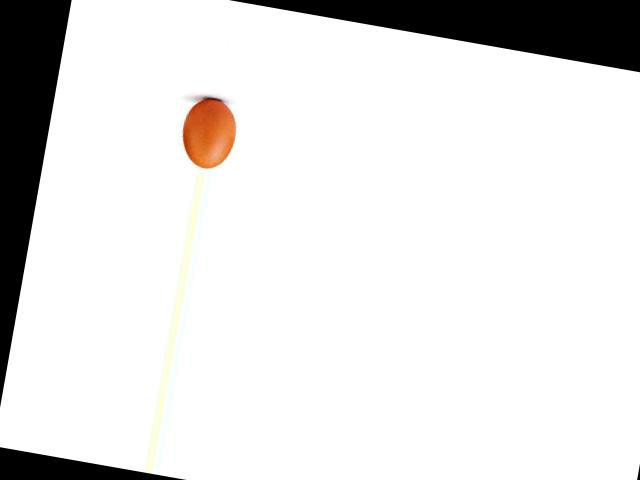egg: (177, 94, 239, 171)
